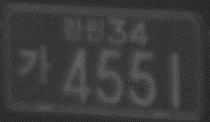1: (163, 52, 190, 109)
3: (108, 17, 127, 46)
4: (61, 49, 91, 102), (129, 21, 149, 45)
5: (95, 49, 125, 104), (128, 50, 157, 106)
가: (16, 45, 54, 84)
강원_O: (62, 15, 106, 44)
